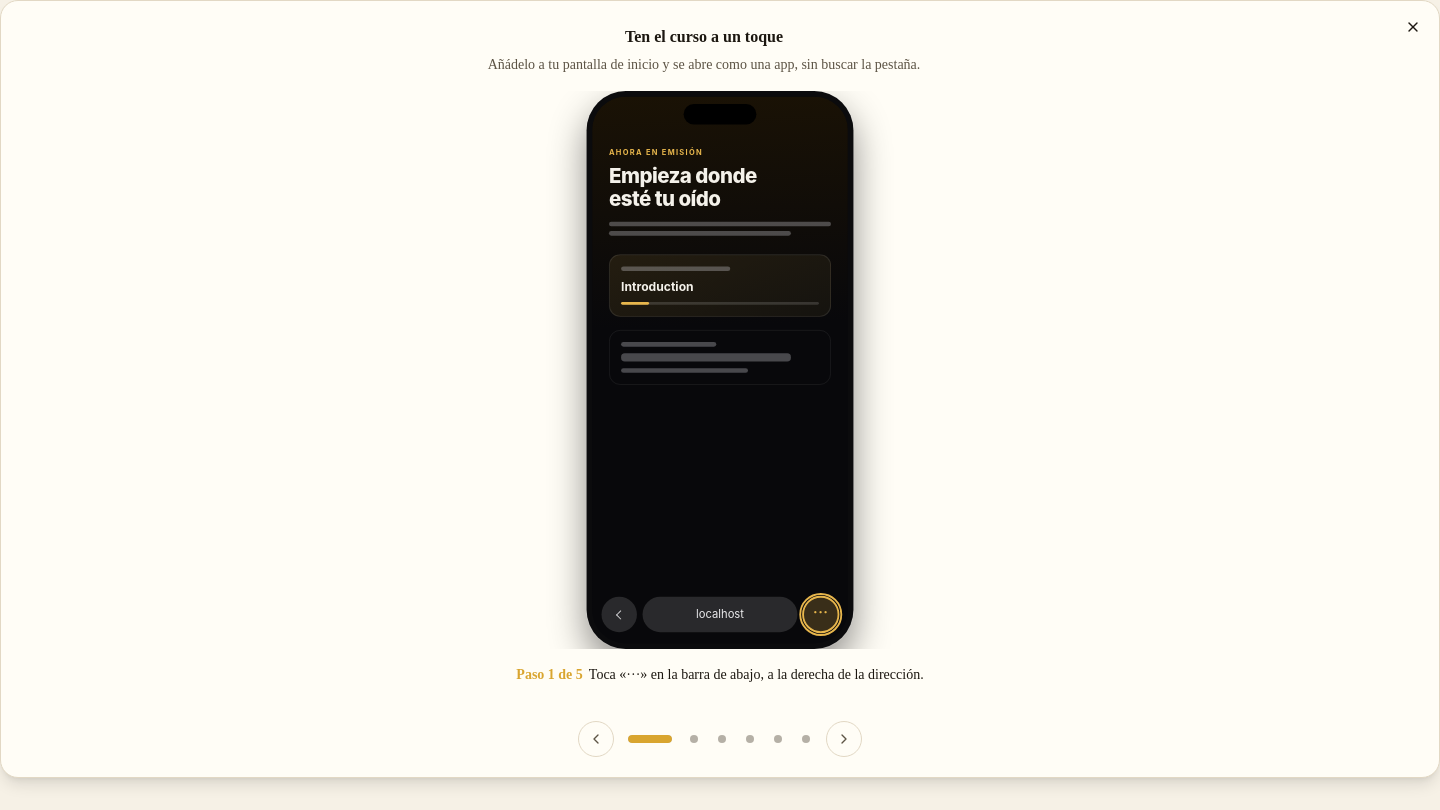
GuideAutoplay by hand › GIVEN a learner who reads faster, or slower, than the loop plays › WHEN they drag back towards the right THEN the previous step returns
Press the mouse on the element "Ten el curso a un toque" at (720, 389), box [0,0,1439,778]
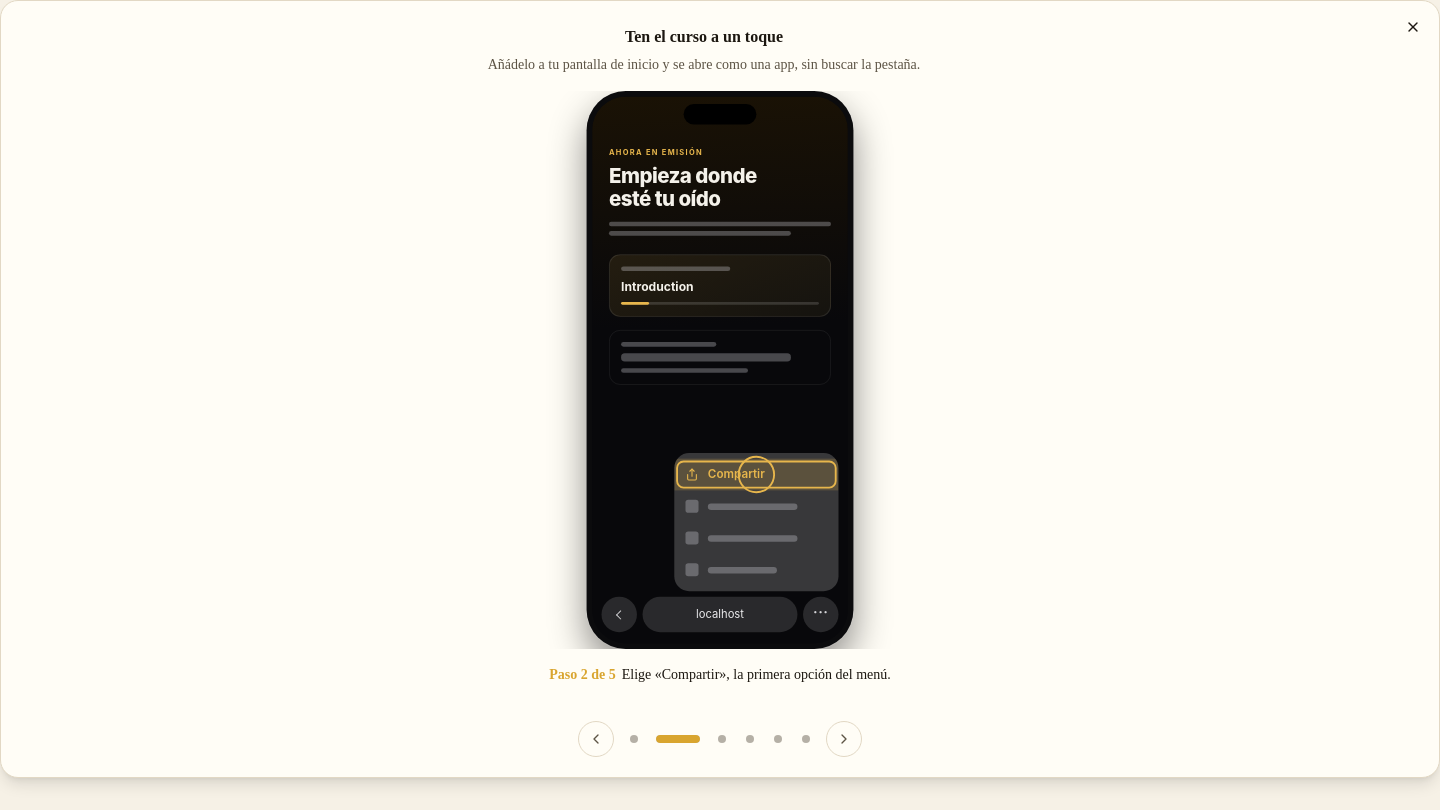
Press the mouse on the element "Ten el curso a un toque" at (720, 389), box [0,0,1439,778]
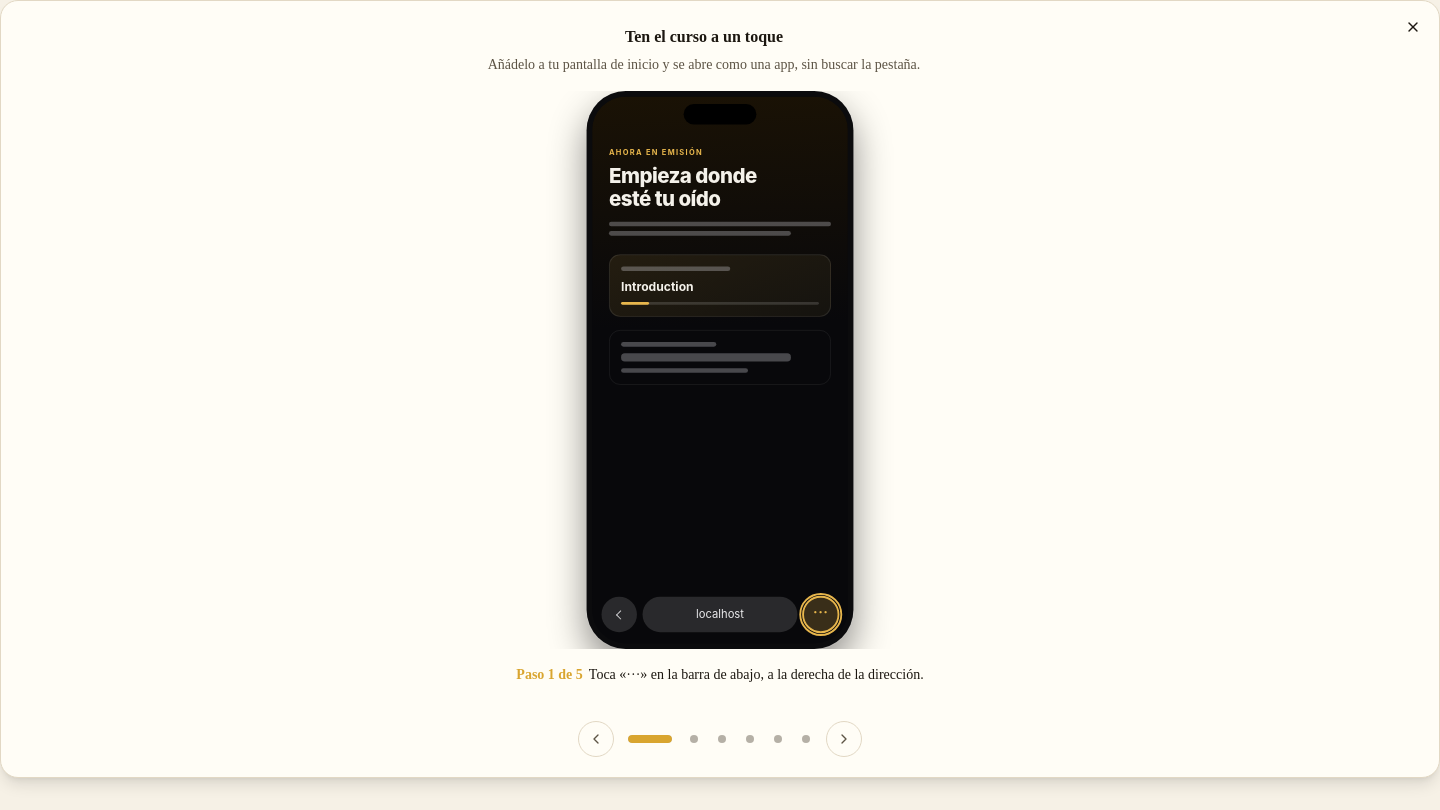
Check: the text "Toca «···» en la barra de abajo, a la derecha de la dirección." is shown, box [589,667,924,682]
